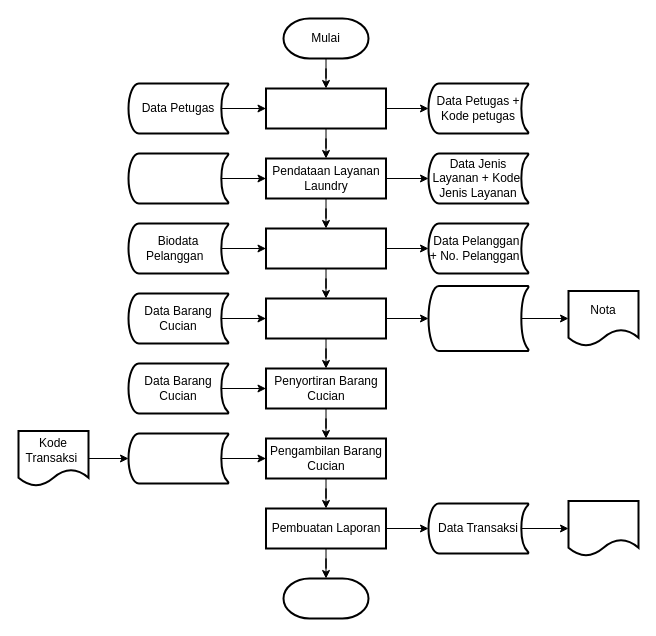
This 656x636 diagram has some shape labels left out. Each missing label, with the box of its shape:
Data Barang: (127, 432, 229, 484)
Data Barang + Kode Transaksi + tanggal transaksi: (427, 284, 529, 352)
Data Jenis Layanan: (127, 152, 229, 204)
Laporan Transaksi: (567, 500, 639, 556)
Pendataan Barang Cucian: (264, 297, 386, 339)
Pendataan Pelanggan: (264, 227, 386, 269)
Pendataan Petugas: (264, 87, 386, 129)
Selesai: (282, 577, 369, 619)
